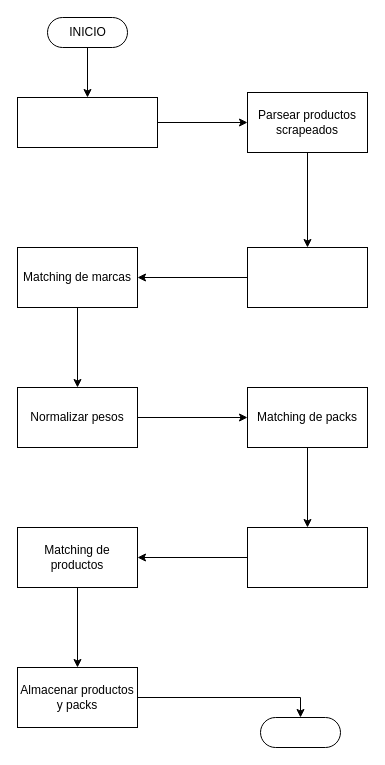
This 385x765 diagram has some shape labels left out. Each missing label, with the centre of its shape:
Almacenamiento de supermercados: point (87, 122)
FIN: point (300, 732)
Matching de categorías: point (307, 557)
Parsear packs scrapeados: point (307, 277)
